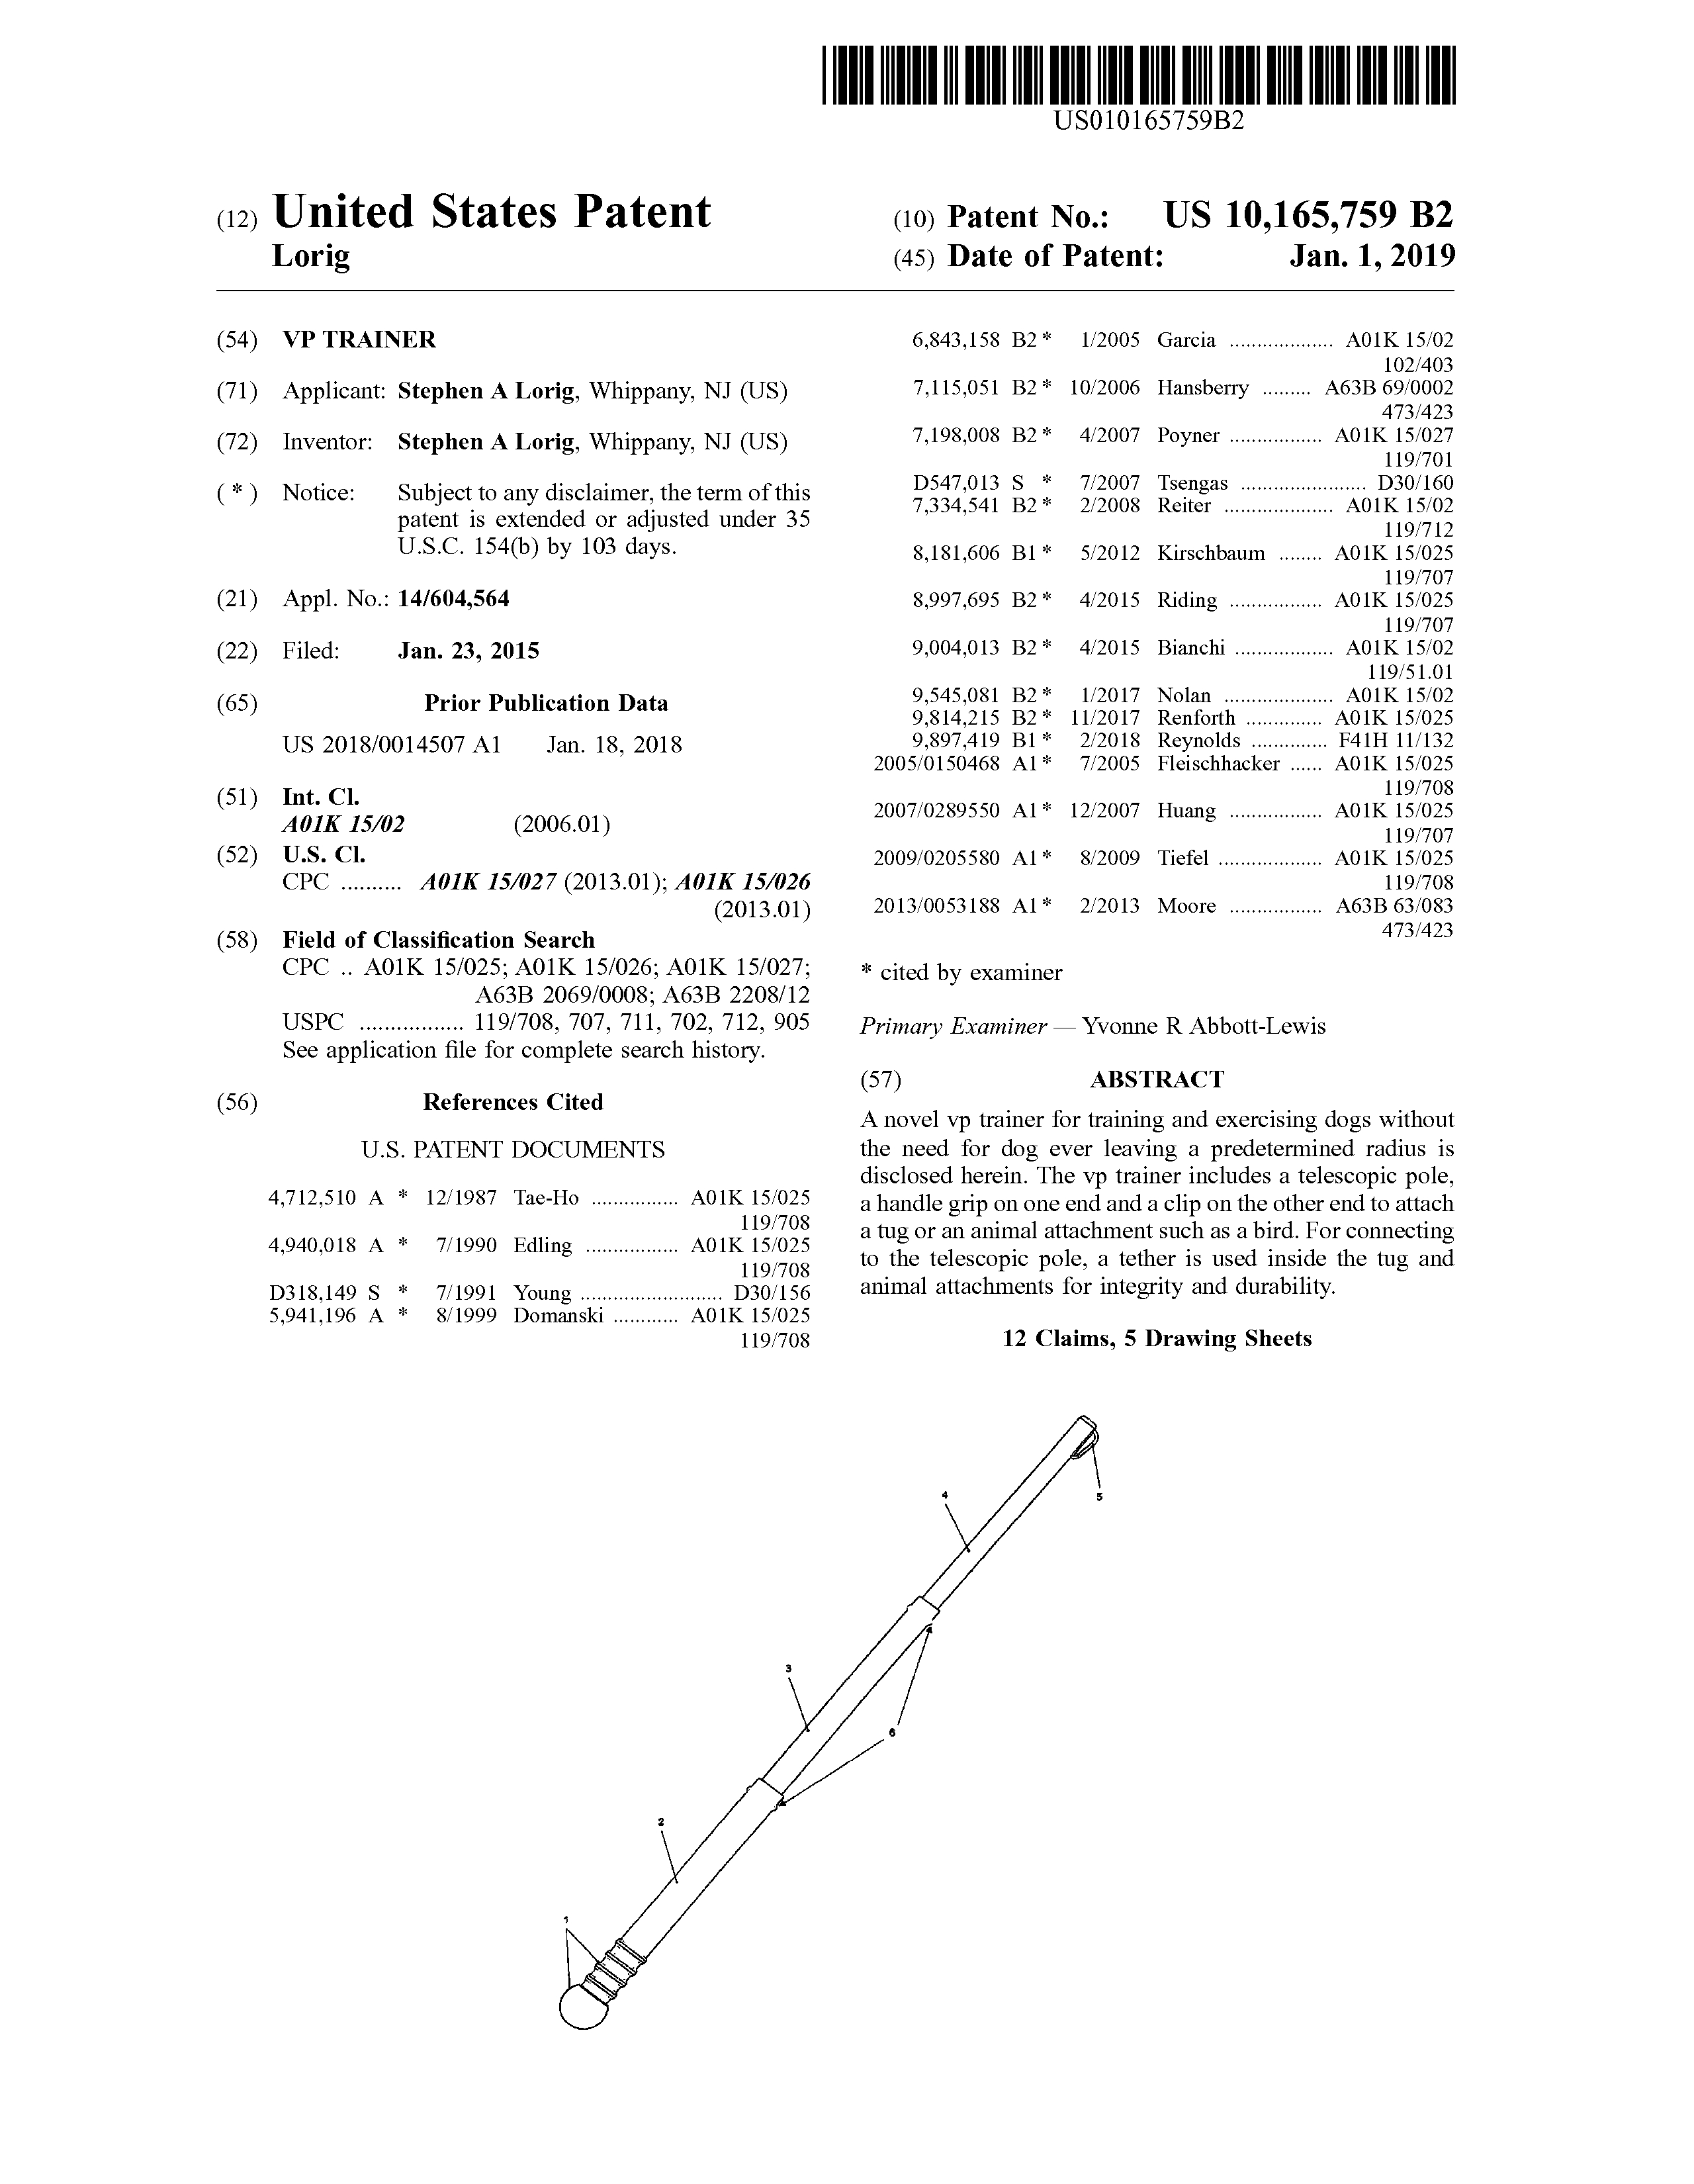patent image: (512, 1390, 1146, 2068)
